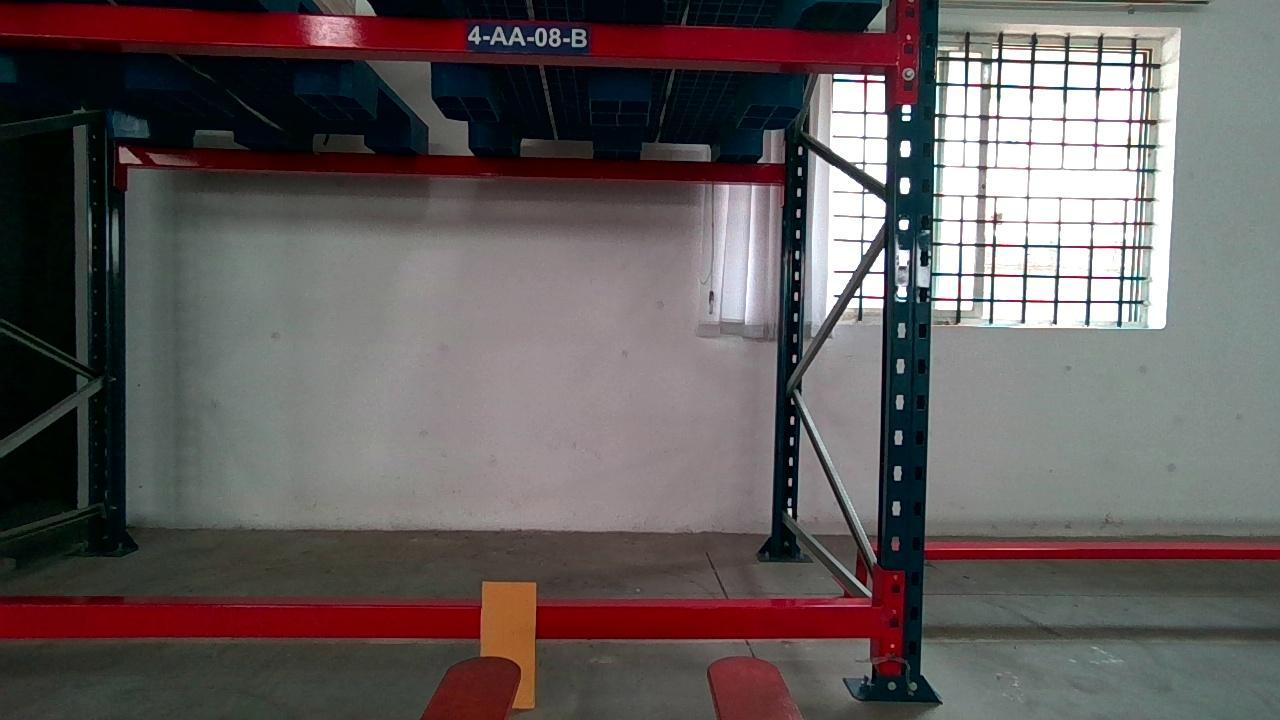h_rack: (1, 1, 900, 63), (0, 606, 879, 639)
orange_strip: (482, 583, 536, 707)
